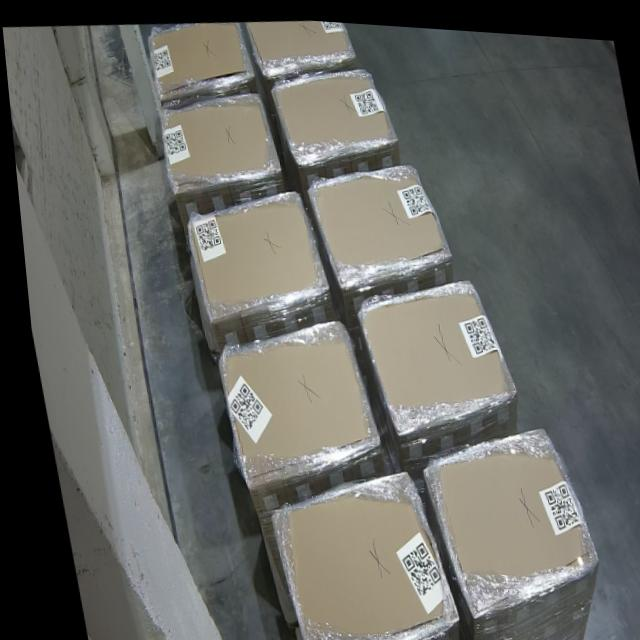pallet: (411, 413, 590, 619), (256, 464, 447, 640), (208, 314, 371, 481), (348, 267, 513, 426), (174, 187, 322, 328), (304, 156, 454, 283), (154, 86, 275, 191), (272, 60, 400, 158), (144, 18, 250, 100), (246, 16, 357, 72)
